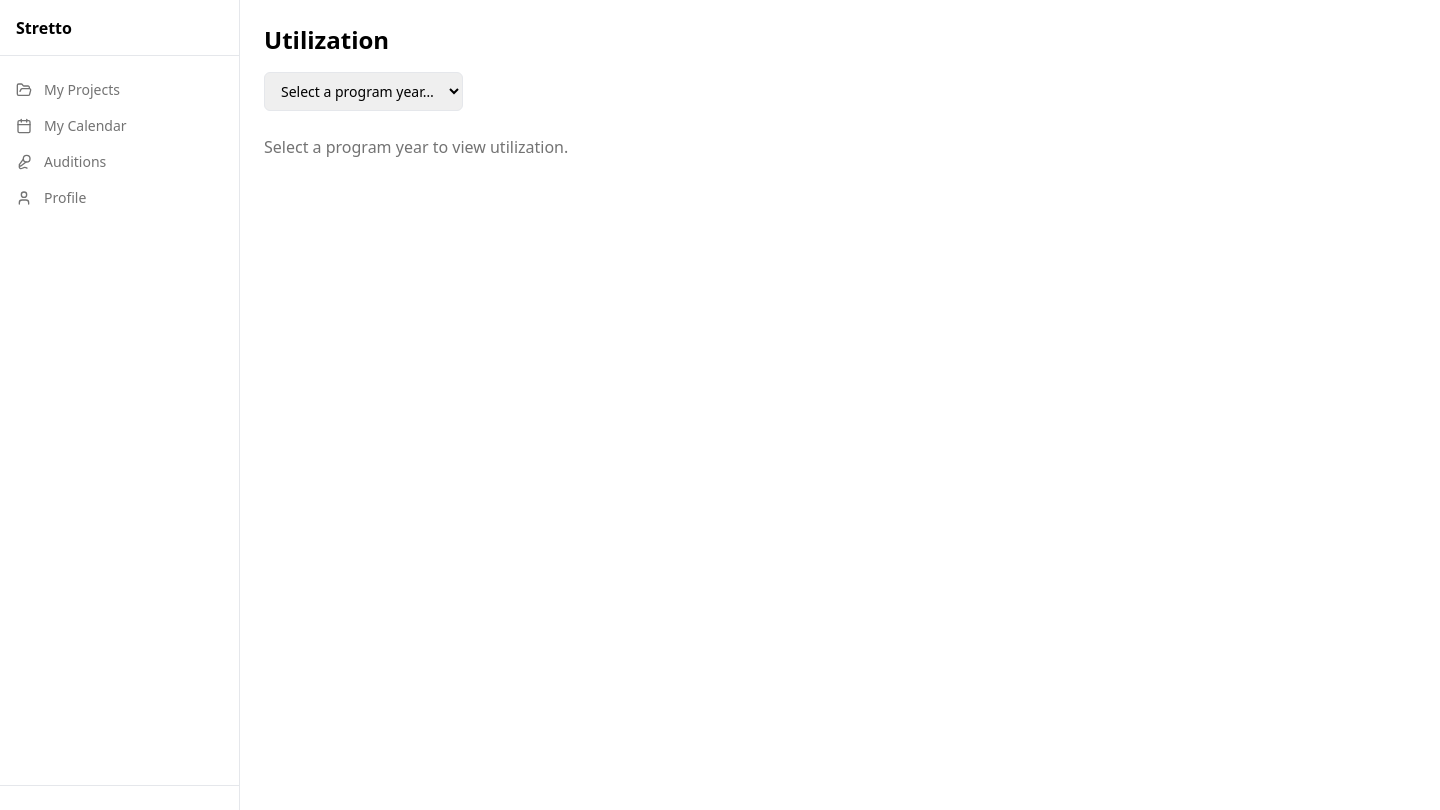
Test: renders member names in utilization table when data is loaded
Select "2024-2025 (current)" in the dropdown with test id "program-year-select". click: (364, 92)
box: [264, 72, 463, 111]
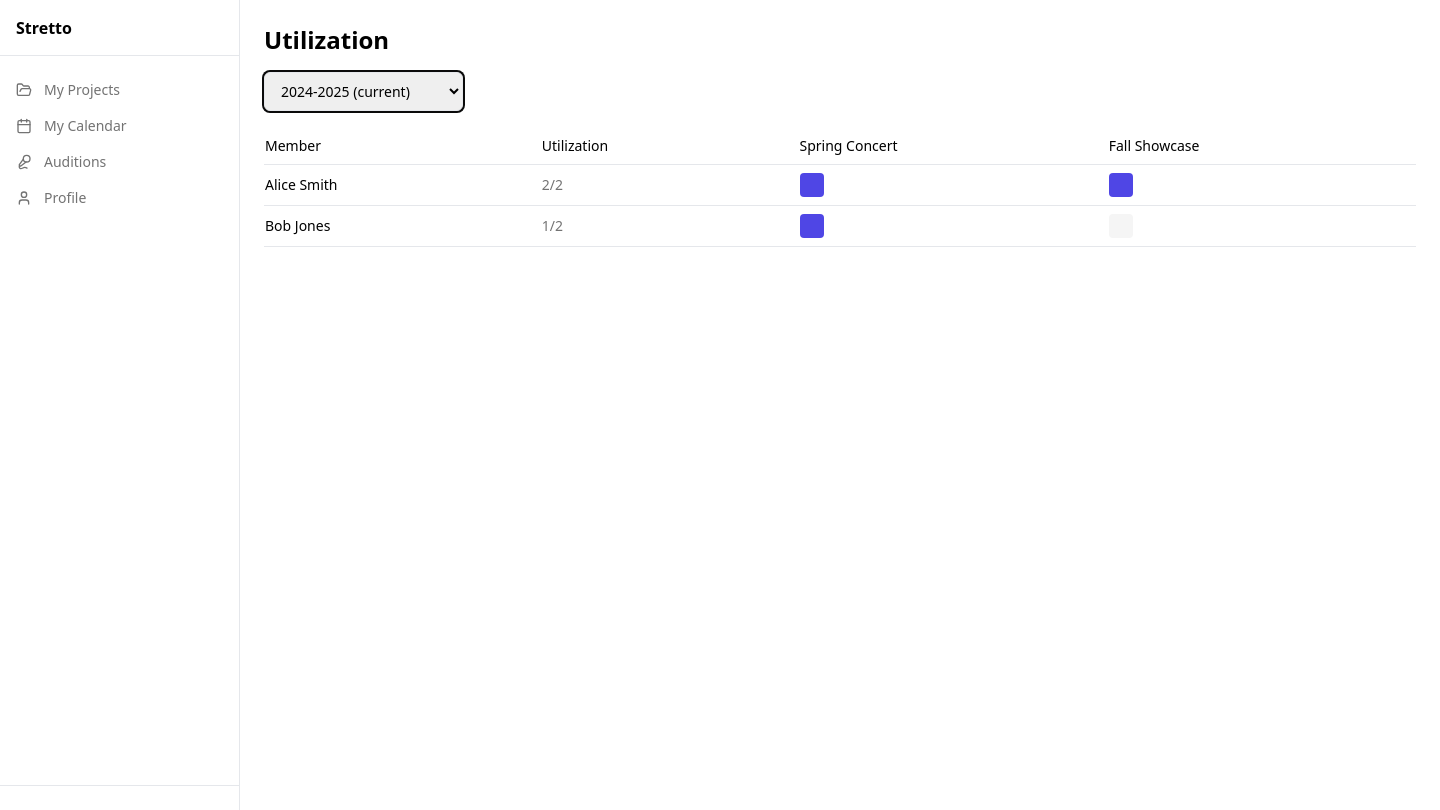
expect the text "Alice Smith" is shown: met, box [264, 164, 541, 206]
expect the text "Bob Jones" is shown: met, box [264, 206, 541, 246]
